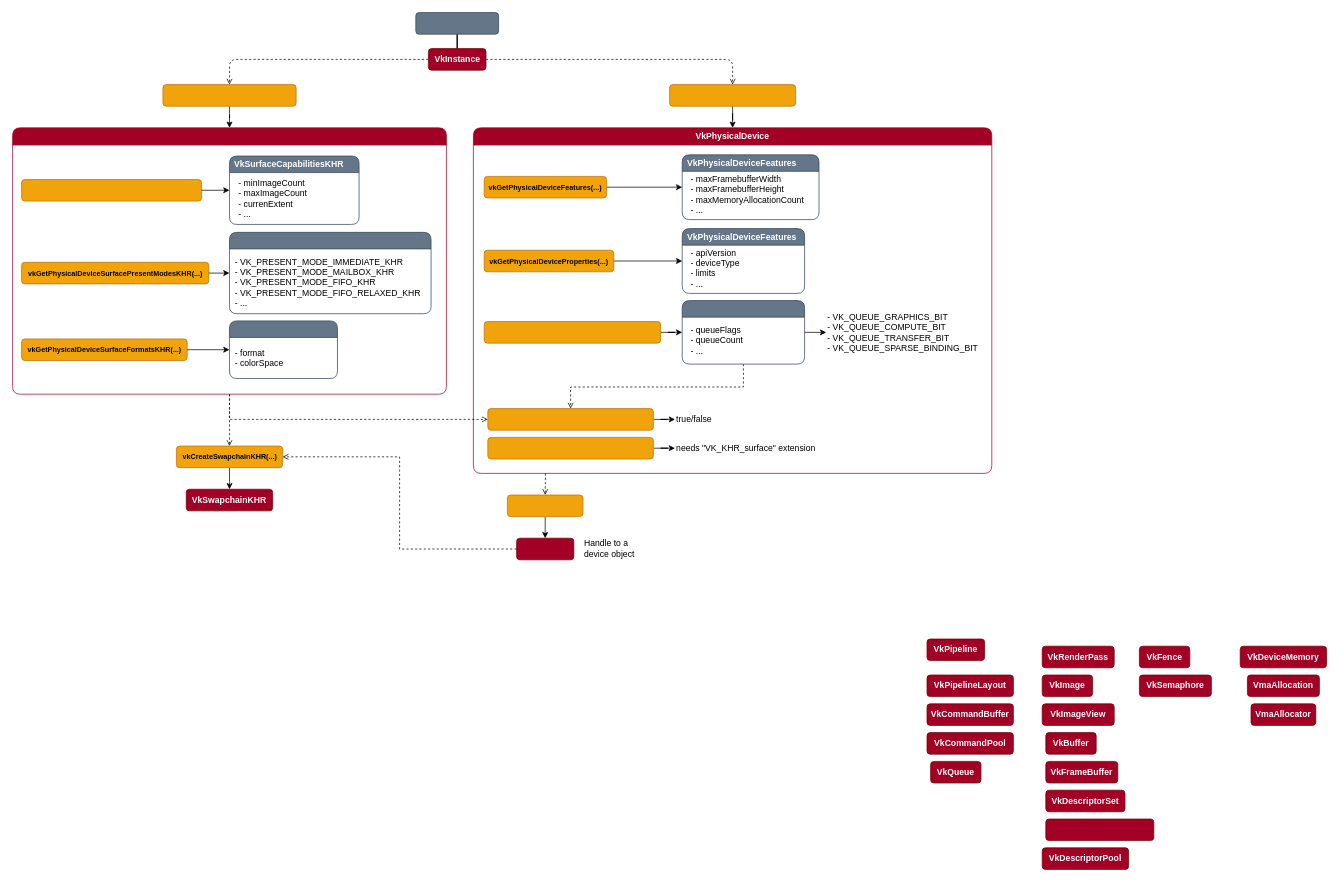
Image size: 1339x882. Some labels were removed from this diagram. The shapes that lost their labels are listed below. From the top down, each one's box as (x1, y1, x2, y2) in pixels, then its label:
(415, 12, 499, 34): VkApplicationInfo
(162, 84, 296, 106): SDL_Vulkan_CreateSurface(...)
(669, 84, 796, 106): vkEnumeratePhysicalDevices(...)
(21, 179, 202, 201): vkGetPhysicalDeviceSurfaceCapabilitiesKHR(...)
(12, 127, 446, 394): VkSurfaceKHR
(229, 232, 431, 314): VkPresentModeKHR
(229, 320, 337, 379): VkSurfaceFormatKHR
(483, 321, 661, 343): vkGetPhysicalDeviceQueueFamilyProperties(...)
(681, 300, 805, 364): VkQueueFamilyProperties
(487, 408, 653, 430): vkGetPhysicalDeviceSurfaceSupportKHR(...)
(487, 437, 653, 459): vkEnumerateDeviceExtensionProperties(...)
(507, 494, 583, 517): vkCreateDevice(...)
(516, 537, 574, 560): VkDevice
(1045, 818, 1154, 841): VkDescriptorSetLayout
